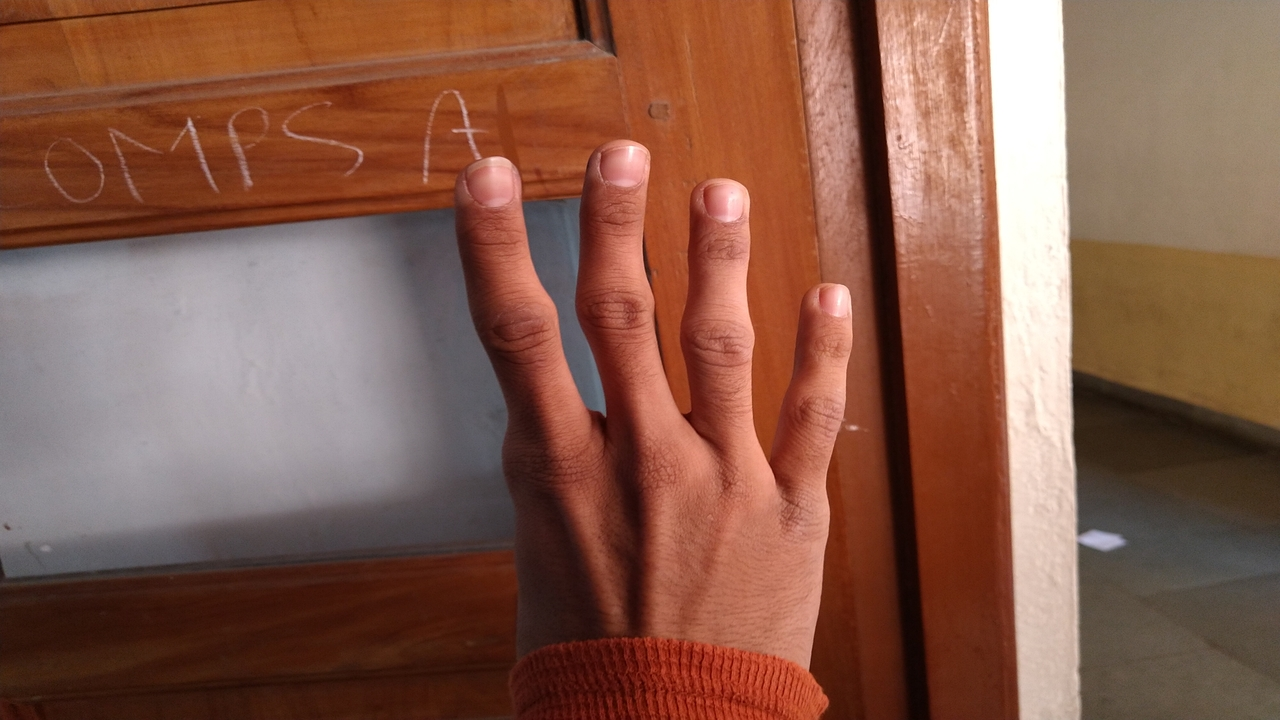fingertip: (570, 134, 662, 204), (448, 148, 528, 220), (678, 174, 760, 234), (798, 276, 862, 336)
